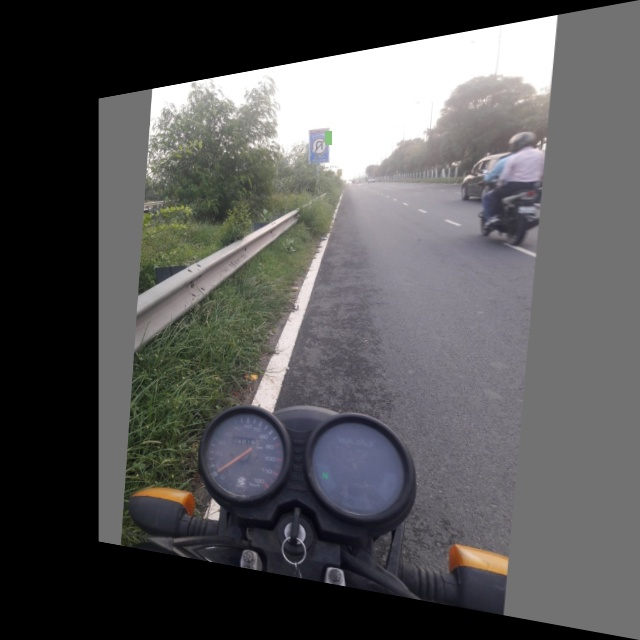U_Turn_Prohibited: (307, 128, 332, 163)
